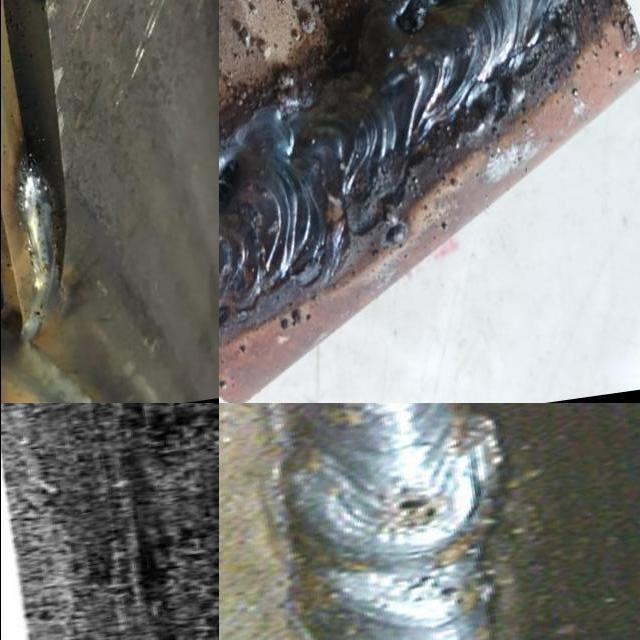defect: (399, 566, 477, 602), (398, 0, 455, 35), (218, 149, 242, 219), (382, 493, 442, 518)
